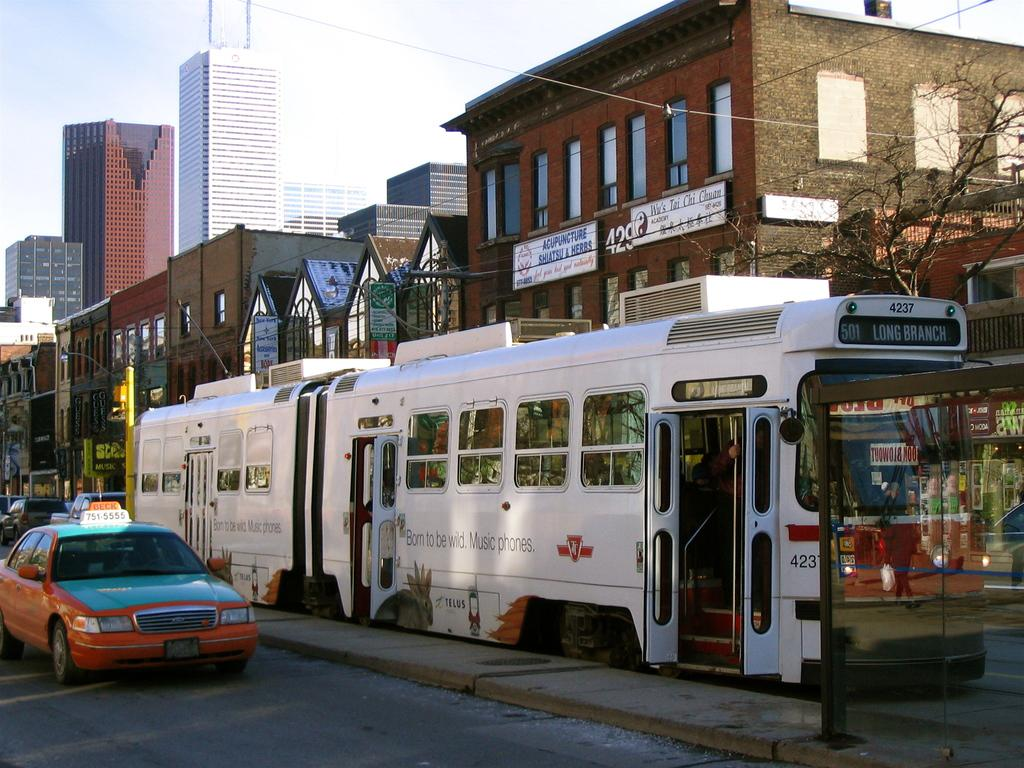taxi: (1, 503, 258, 683)
